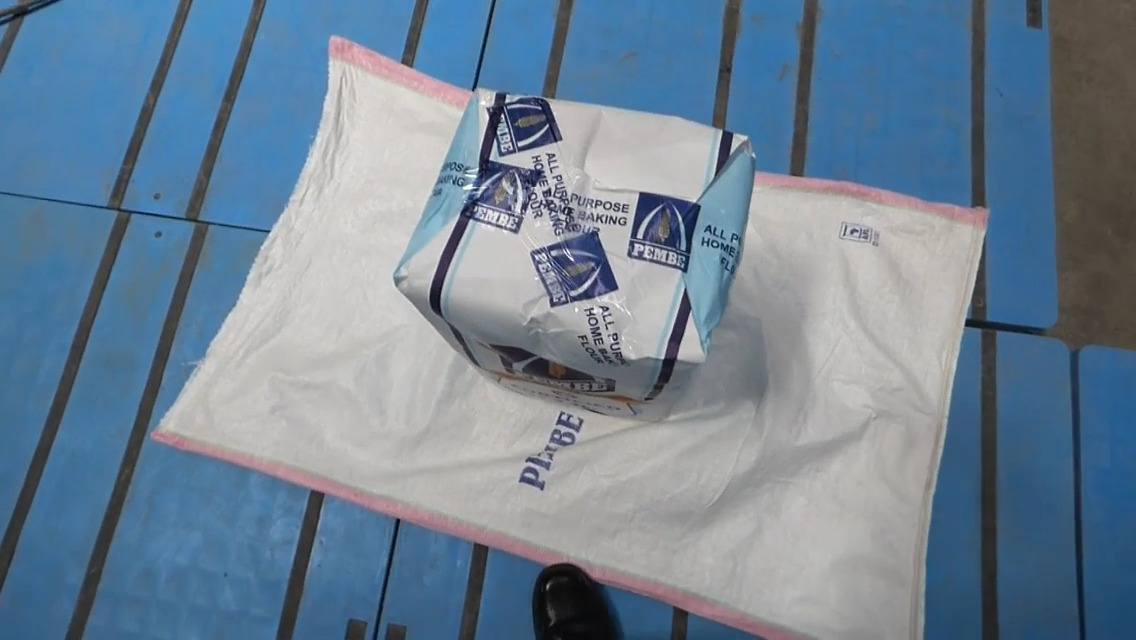wheat_flour_blue_label: (392, 89, 751, 420)
